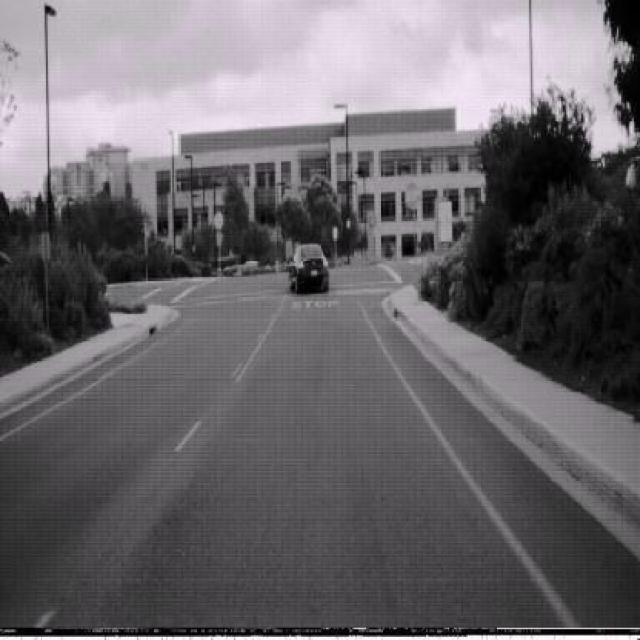stop: (406, 180, 422, 211)
